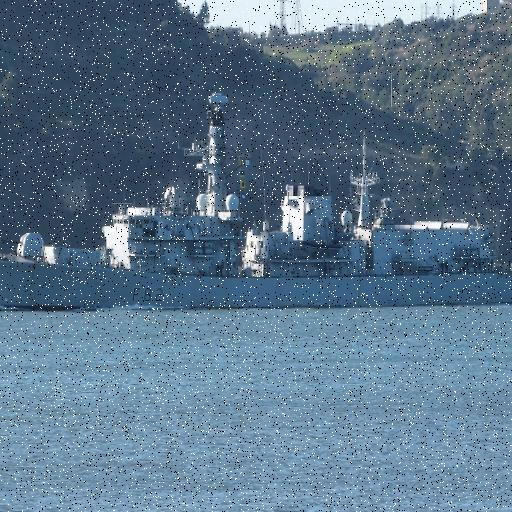Fragata: (1, 85, 512, 323)
